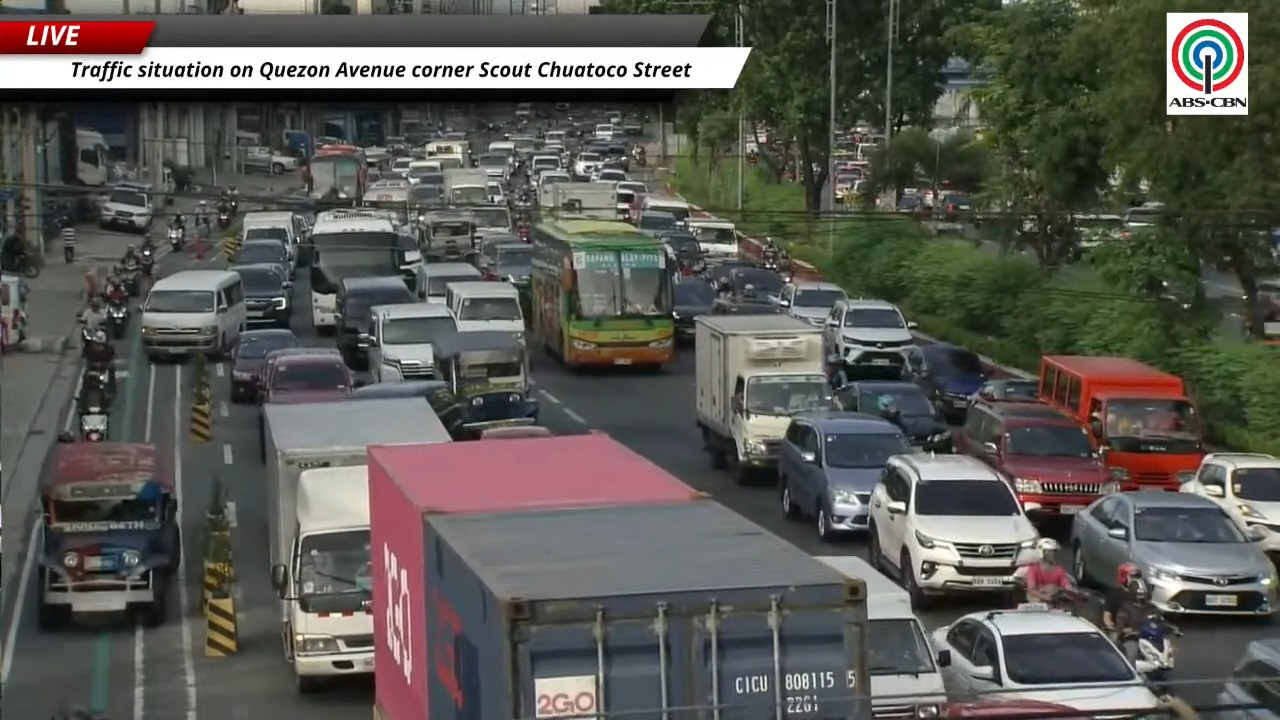bus: (530, 218, 674, 367), (309, 209, 400, 334), (303, 145, 367, 204)
car: (1070, 490, 1277, 618), (867, 454, 1038, 608), (930, 607, 1159, 717), (952, 401, 1118, 518), (778, 412, 911, 541), (1180, 452, 1279, 564), (258, 348, 356, 461), (832, 380, 950, 450), (336, 277, 417, 368), (908, 343, 986, 423), (824, 298, 915, 365), (261, 347, 356, 403), (1215, 638, 1279, 719), (230, 328, 300, 402), (229, 264, 292, 327), (918, 699, 1091, 719), (778, 281, 846, 326), (672, 277, 716, 340), (99, 185, 155, 232), (480, 236, 532, 285), (231, 239, 292, 276), (729, 267, 784, 301), (350, 380, 448, 399), (240, 146, 297, 174), (971, 378, 1039, 401), (704, 258, 754, 285), (708, 297, 780, 314), (636, 210, 680, 235), (478, 425, 553, 439), (937, 192, 971, 222), (592, 168, 627, 182)
motorcycle: (1128, 612, 1180, 693), (81, 365, 114, 396), (79, 407, 108, 441), (5, 250, 39, 278), (105, 302, 128, 339), (119, 265, 140, 296), (139, 249, 154, 276), (167, 227, 184, 250), (632, 151, 647, 167), (218, 209, 230, 228), (229, 196, 237, 214)
truck: (391, 502, 871, 719), (368, 433, 710, 719), (263, 398, 450, 567), (271, 465, 373, 691), (695, 314, 830, 482), (538, 182, 617, 219), (443, 168, 488, 206)
